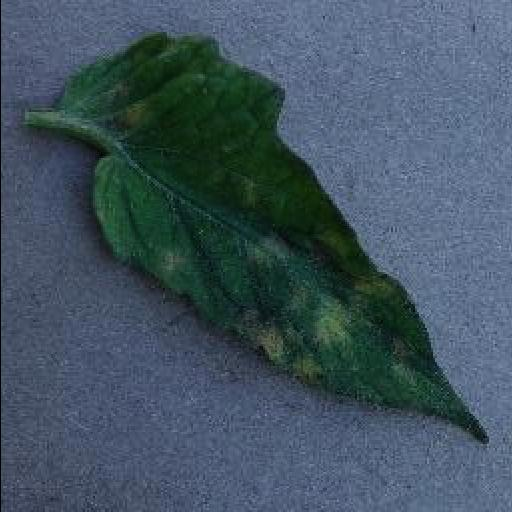disease_tomato: (54, 30, 490, 446)
